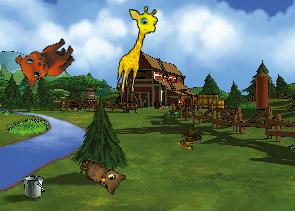bear: (10, 25, 80, 93)
giraffe: (114, 3, 160, 97)
owl: (75, 158, 127, 197)
